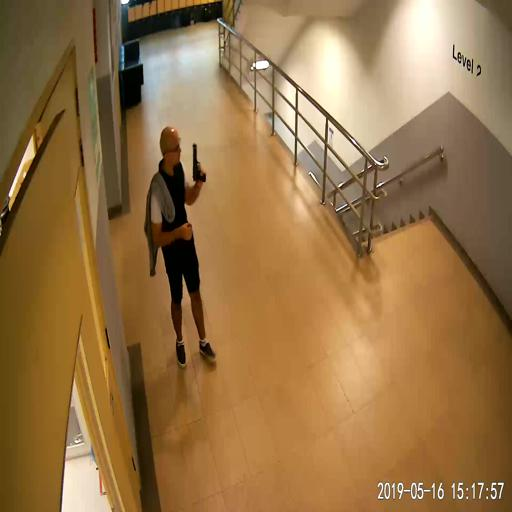pistol: (193, 143, 205, 183)
